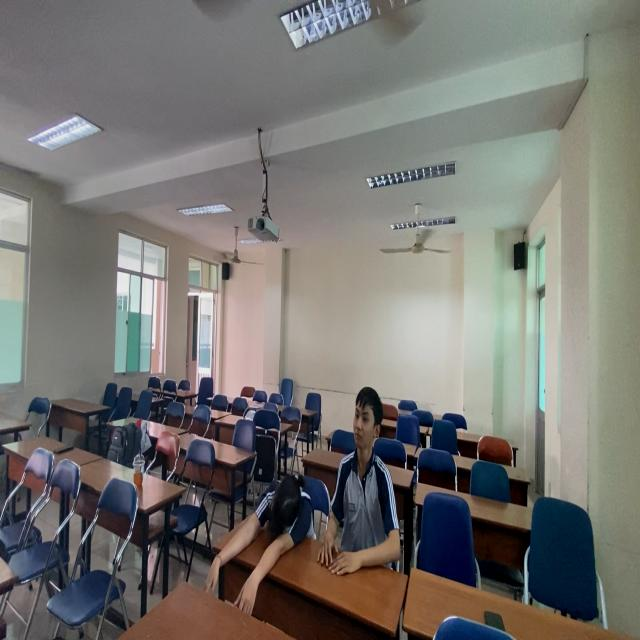sleep: (233, 467, 323, 566)
